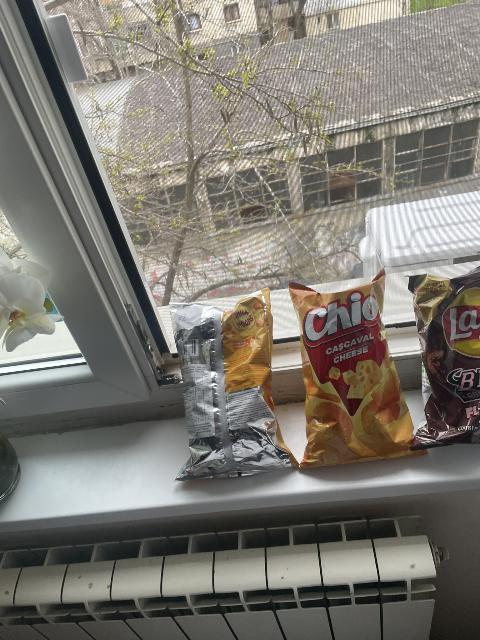Chio Cascaval 125g: (284, 274, 429, 463)
Chio Hula Hoops Cheese 70g: (172, 296, 291, 481)
Lays Beef Grilled Ribs 125g: (397, 263, 480, 453)
